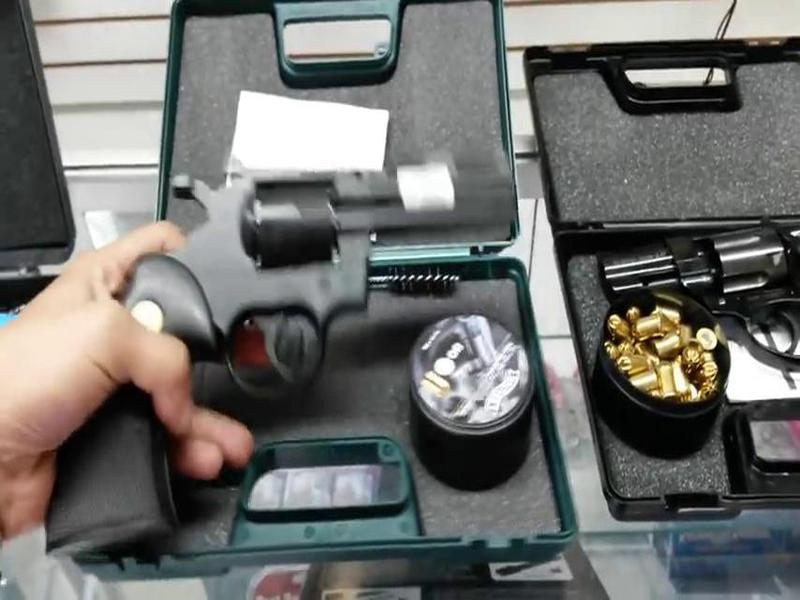Revolver: (56, 123, 527, 533)
